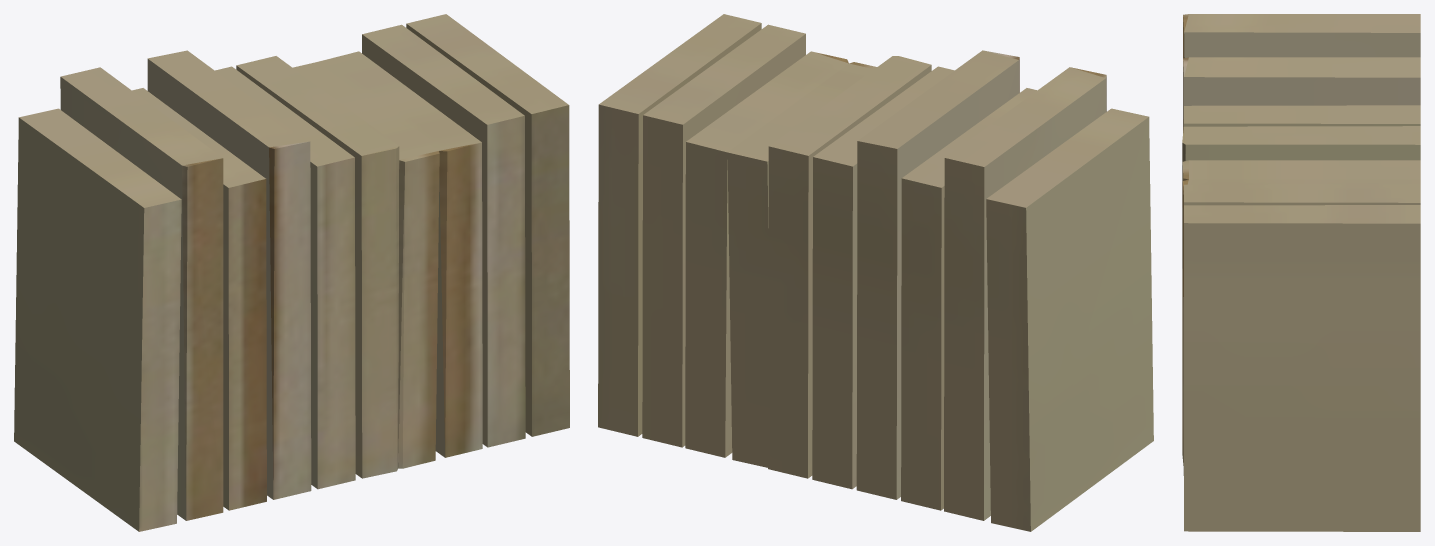
The model's file is book2_v4.dae.
3 renders of one model, left to right at view 1: azimuth 30°, elevation 25°; view 2: azimuth 150°, elevation 25°; view 3: azimuth 270°, elevation 25°, orthographic. The views are drawn at different scales.
Parts seen in each view (by area): view 1: node; view 2: node; view 3: node.
Boxes of the visible parts, x1,y1,x2,y2 form: node: [14, 14, 569, 531]; node: [598, 14, 1153, 531]; node: [1182, 14, 1420, 531].
Size of the model in its own units: 0.241 by 0.189 by 0.1206.
Materials: 1 (1 with a texture image).
